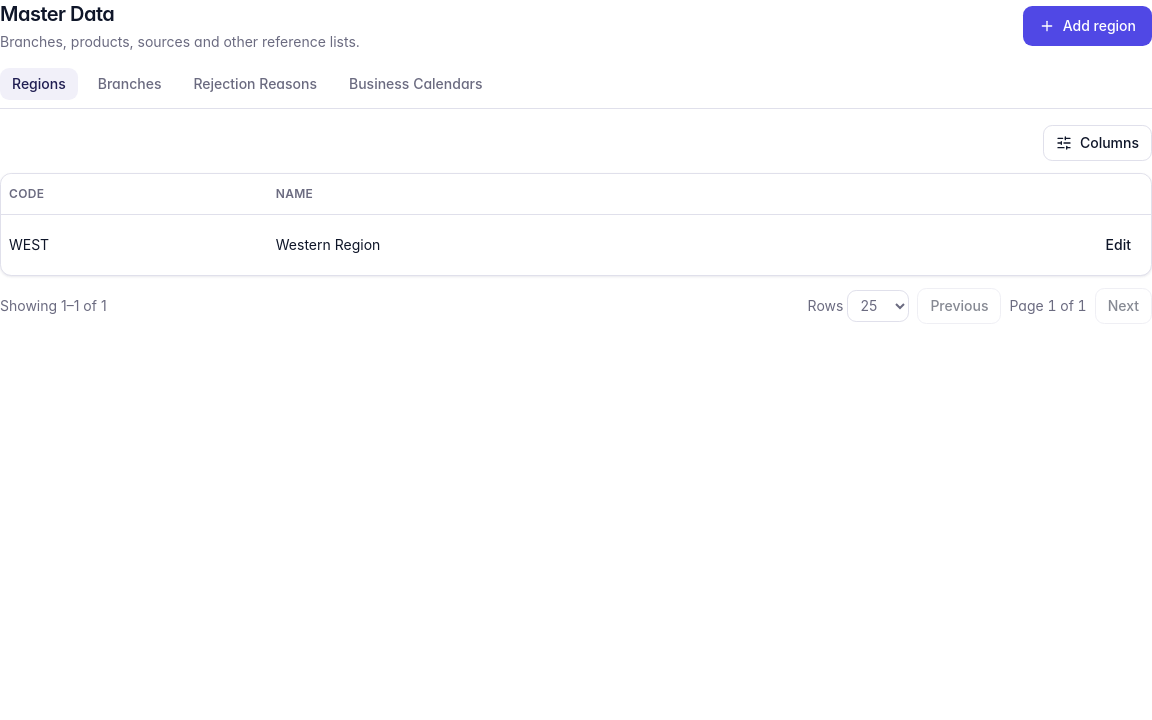
MasterDataPage › opens the create modal with resource-specific fields
Click the button "Add region" at (1087, 26), box x1=1023 y1=6 x2=1151 y2=46
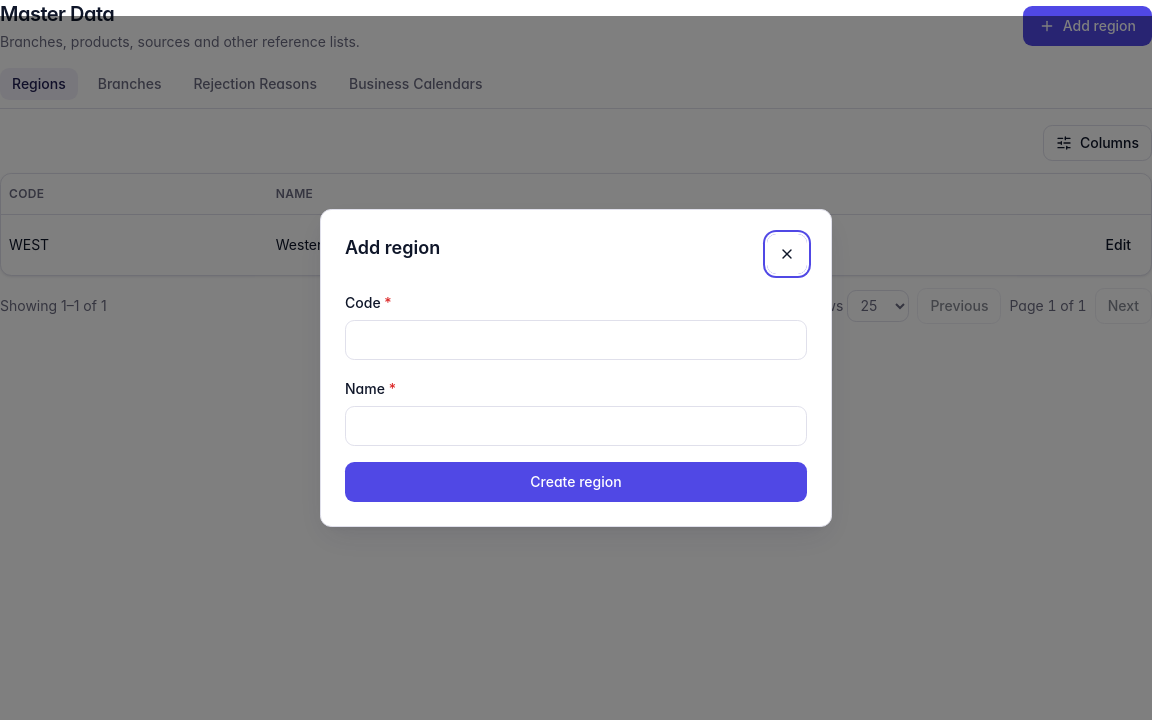
Now the field labelled "Code *" is shown, box x1=345 y1=320 x2=807 y2=360
Now the field labelled "Name *" is shown, box x1=345 y1=406 x2=807 y2=446
